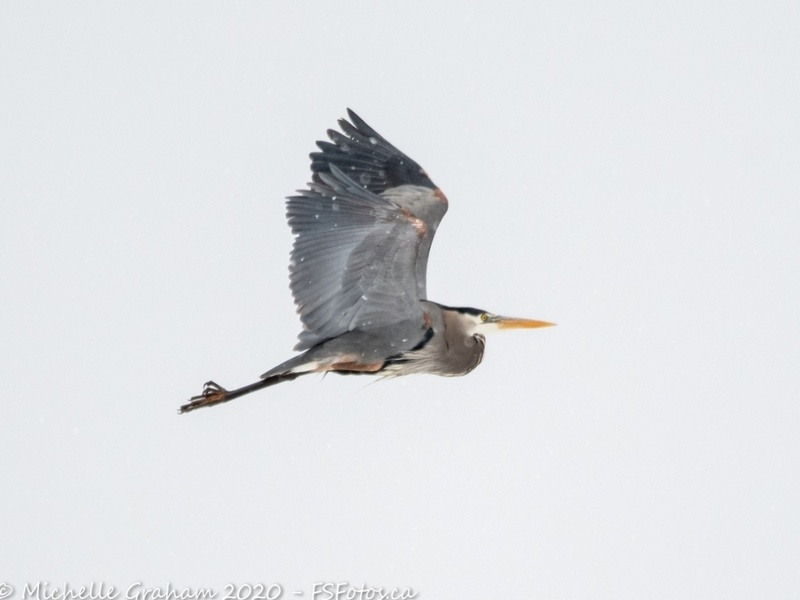heron: (172, 99, 559, 422)
